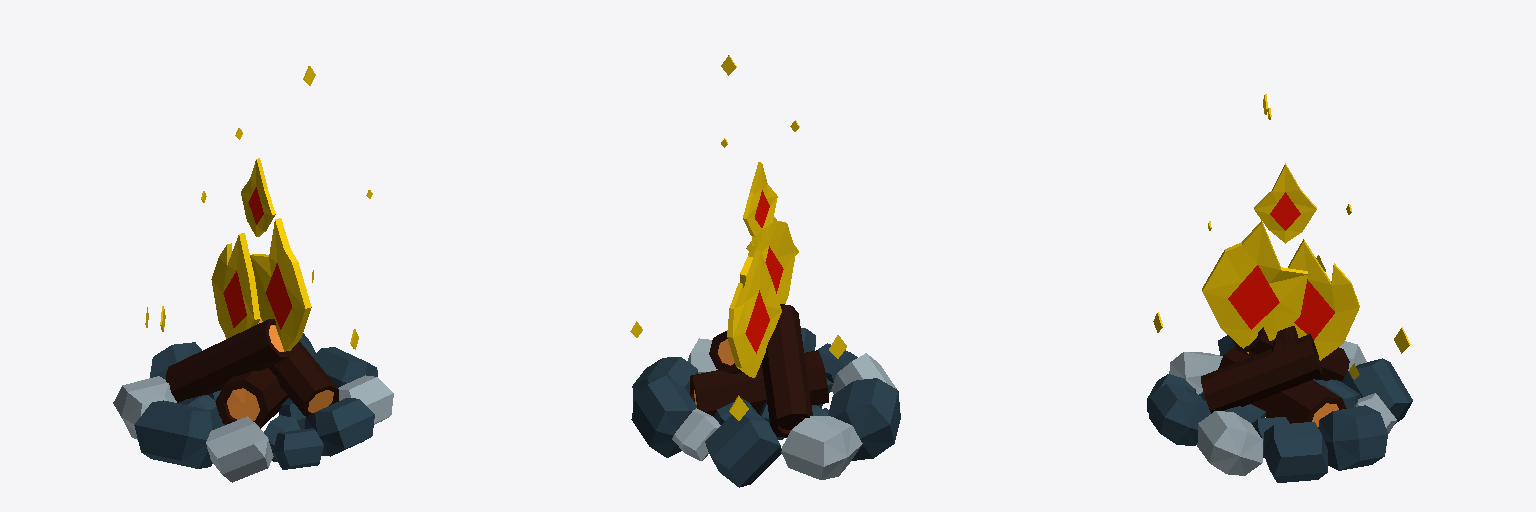
Rendered from campfire.obj.
3 views of the same model, side by side, from view 1: azimuth 30°, elevation 25°; view 2: azimuth 150°, elevation 25°; view 3: azimuth 270°, elevation 25° (orthographic).
Visible parts, largest first — view 1: campfire_01_Plane.003_78909C, campfire_01_Plane.003_795548, campfire_01_Plane.003_FFEB3B, campfire_01_Plane.003_CFD8DC, campfire_01_Plane.003_FF5722, campfire_01_Plane.003_FFCC88; view 2: campfire_01_Plane.003_78909C, campfire_01_Plane.003_795548, campfire_01_Plane.003_FFEB3B, campfire_01_Plane.003_CFD8DC, campfire_01_Plane.003_FF5722; view 3: campfire_01_Plane.003_78909C, campfire_01_Plane.003_FFEB3B, campfire_01_Plane.003_795548, campfire_01_Plane.003_CFD8DC, campfire_01_Plane.003_FF5722.
Boxes of the visible parts, <box> form: campfire_01_Plane.003_78909C: <box>134,333,377,469</box>; campfire_01_Plane.003_795548: <box>166,319,338,428</box>; campfire_01_Plane.003_FFEB3B: <box>145,66,372,351</box>; campfire_01_Plane.003_CFD8DC: <box>113,375,393,482</box>; campfire_01_Plane.003_FF5722: <box>223,187,291,329</box>; campfire_01_Plane.003_FFCC88: <box>227,317,333,420</box>; campfire_01_Plane.003_78909C: <box>631,328,900,487</box>; campfire_01_Plane.003_795548: <box>690,304,828,437</box>; campfire_01_Plane.003_FFEB3B: <box>630,55,846,420</box>; campfire_01_Plane.003_CFD8DC: <box>672,338,896,479</box>; campfire_01_Plane.003_FF5722: <box>745,190,783,353</box>; campfire_01_Plane.003_78909C: <box>1147,335,1412,482</box>; campfire_01_Plane.003_FFEB3B: <box>1153,94,1410,379</box>; campfire_01_Plane.003_795548: <box>1201,326,1349,423</box>; campfire_01_Plane.003_CFD8DC: <box>1169,341,1396,475</box>; campfire_01_Plane.003_FF5722: <box>1228,192,1334,339</box>.
Size of the model in its own units: 5.44 by 7.87 by 5.16.